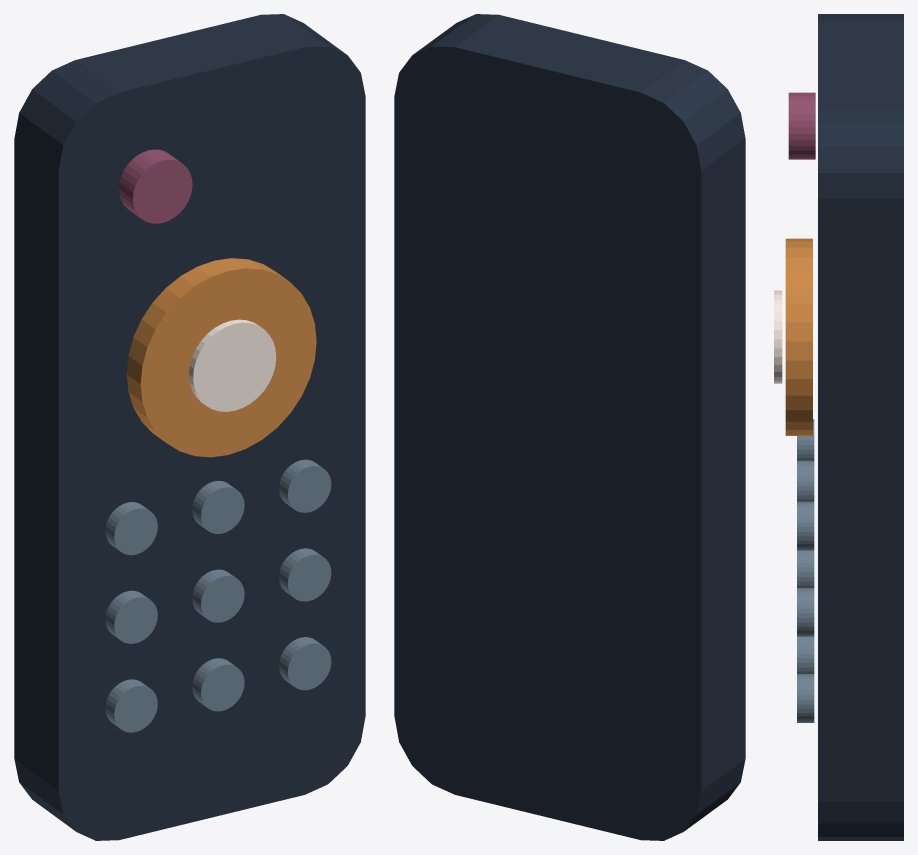
File: remote.glb
3 views of the same model, side by side, from view 1: azimuth 30°, elevation 25°; view 2: azimuth 150°, elevation 25°; view 3: azimuth 270°, elevation 25° (orthographic). The views are drawn at different scales.
Visible parts, largest first — view 1: housing, direction ring, ok button, power key, key 1-2, key 0-2, key 1-1, key 0-1, key 2-1, key 0-0, key 2-0, key 1-0 (+1 smaller); view 2: housing; view 3: housing, direction ring, power key, key 2-0, key 2-1, key 2-2, ok button, key 1-0, key 1-1, key 1-2, key 0-0.
Boxes of the visible parts, x1,y1,x2,y2 form: housing: [14, 14, 365, 840]; direction ring: [126, 258, 316, 457]; ok button: [189, 319, 276, 411]; power key: [119, 149, 192, 223]; key 1-2: [192, 658, 244, 711]; key 0-2: [105, 679, 157, 732]; key 1-1: [192, 569, 244, 622]; key 0-1: [105, 590, 157, 643]; key 2-1: [279, 548, 331, 601]; key 0-0: [105, 502, 157, 555]; key 2-0: [279, 459, 331, 512]; key 1-0: [192, 480, 244, 533]; housing: [394, 14, 745, 840]; housing: [818, 14, 903, 840]; direction ring: [785, 238, 812, 435]; power key: [788, 92, 815, 159]; key 2-0: [797, 501, 814, 550]; key 2-1: [797, 588, 814, 636]; key 2-2: [797, 674, 814, 722]; ok button: [774, 290, 782, 383]; key 1-0: [797, 460, 814, 501]; key 1-1: [797, 550, 814, 587]; key 1-2: [797, 636, 814, 673]; key 0-0: [797, 419, 814, 460].
Size of the model in its own units: 0.76 by 1.77 by 0.287.
